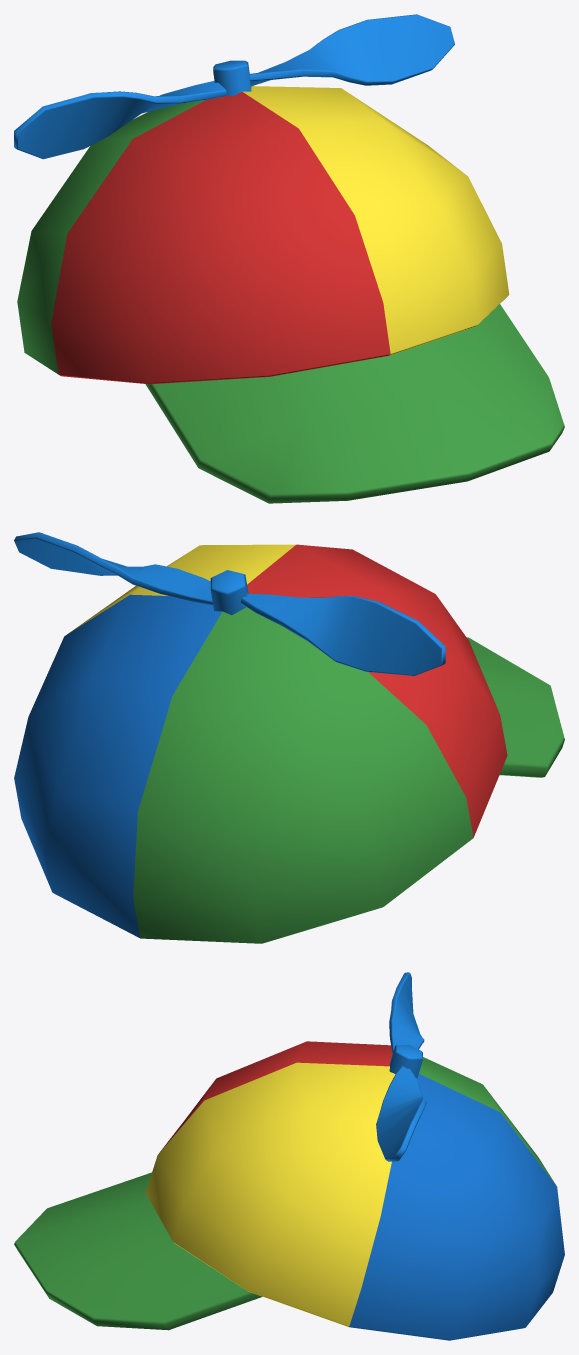
The model's file is Hat_057.glb.
The picture shows the model from 3 angles, top to bottom: view 1: azimuth 30°, elevation 25°; view 2: azimuth 150°, elevation 25°; view 3: azimuth 270°, elevation 25°; orthographic projection. The views are drawn at different scales.
Parts seen in each view (by area): view 1: Hat_057; view 2: Hat_057; view 3: Hat_057.
Boxes of the visible parts, x1=… form: Hat_057: x1=14, y1=14, x2=564, y2=503; Hat_057: x1=14, y1=532, x2=564, y2=943; Hat_057: x1=14, y1=972, x2=564, y2=1340.
Bounding box in the file's own units: 0.4417 × 0.2981 × 0.5934.
1 material, 1 textured.
